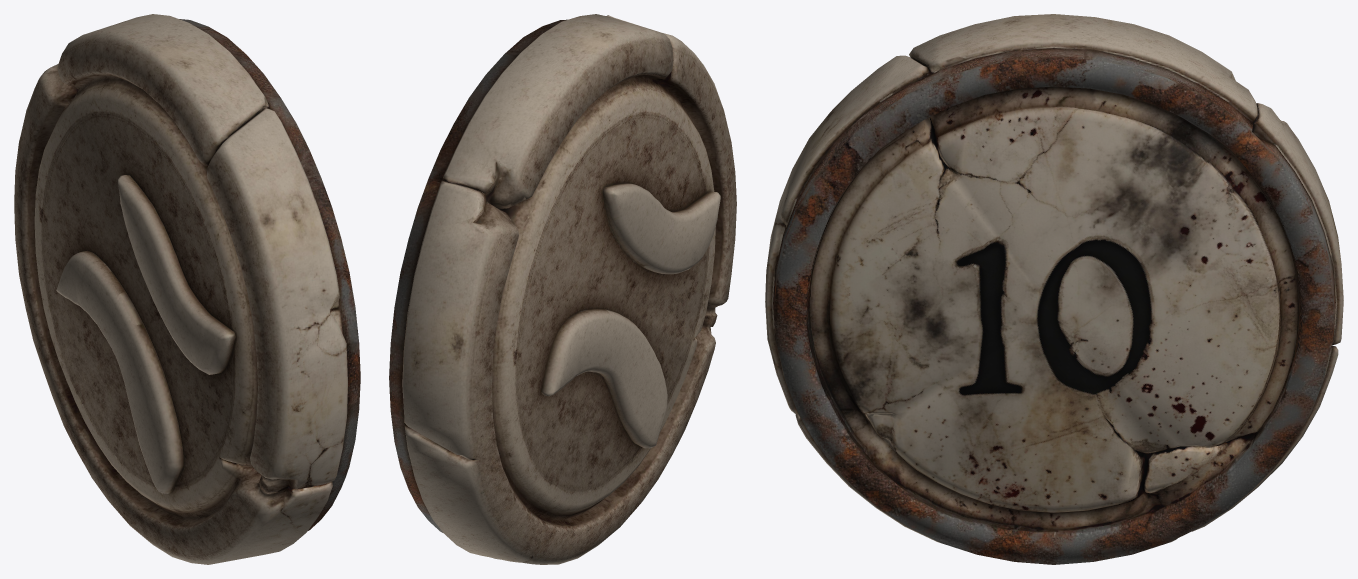
3 renders of one model, left to right at view 1: azimuth 30°, elevation 25°; view 2: azimuth 150°, elevation 25°; view 3: azimuth 270°, elevation 25°, orthographic. The views are drawn at different scales.
Parts seen in each view (by area): view 1: tripo_node_27393b46; view 2: tripo_node_27393b46; view 3: tripo_node_27393b46.
Boxes of the visible parts, box(x1,y1,x2,y2) form: tripo_node_27393b46: box(14, 14, 360, 564); tripo_node_27393b46: box(389, 14, 736, 564); tripo_node_27393b46: box(765, 14, 1343, 564).
Bounding box in the file's own units: 0.2285 × 0.998 × 0.998.
1 material, 1 textured.
